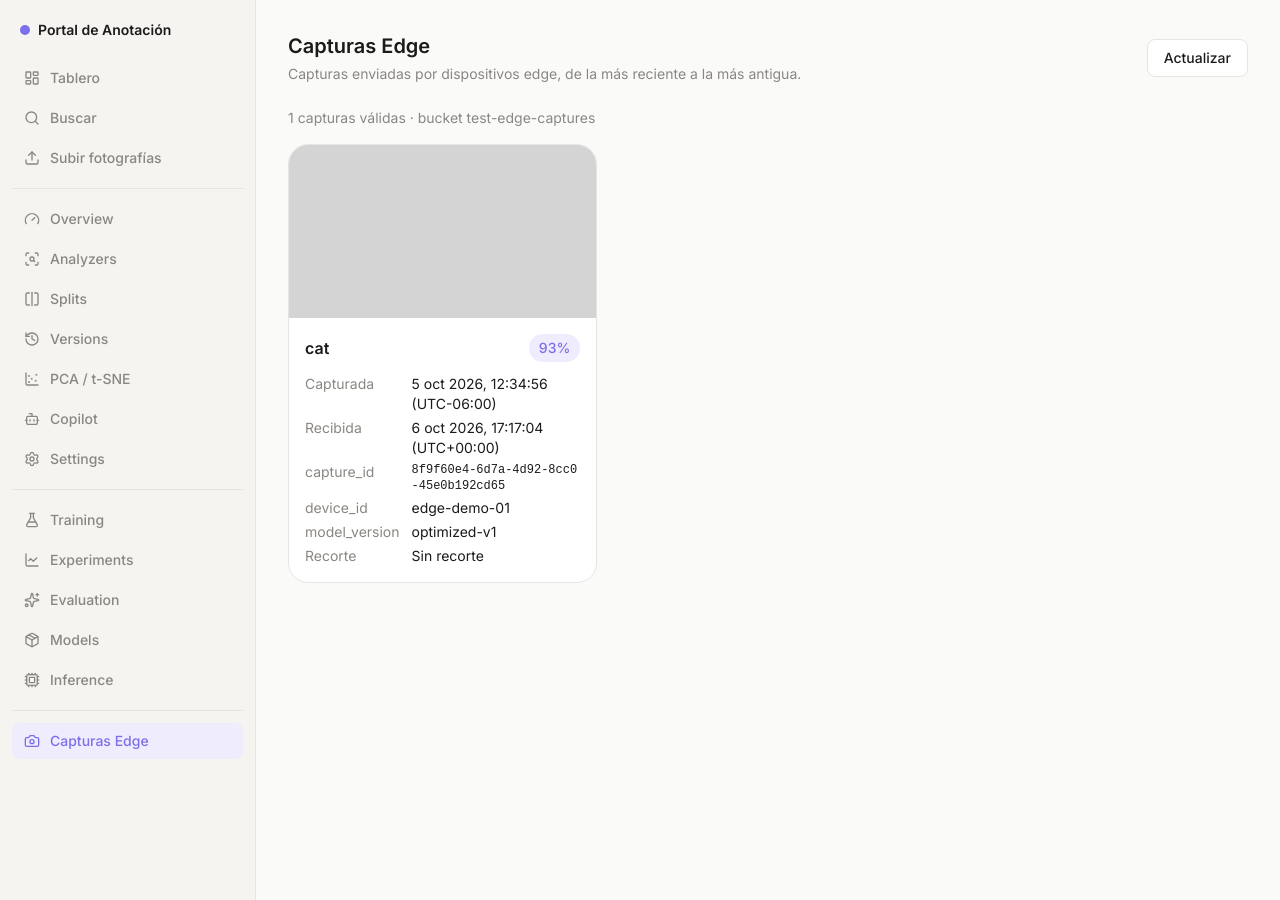
Test: P4-08 Capturas Edge › Actualizar consulta de nuevo y agrega la captura recién recibida
Expected: the text "8f9f60e4-6d7a-4d92-8cc0-45e0b192cd65" is shown, [412,462,580,494]
Click the button "Actualizar" at x=1197, y=58, box [1147,39,1248,77]
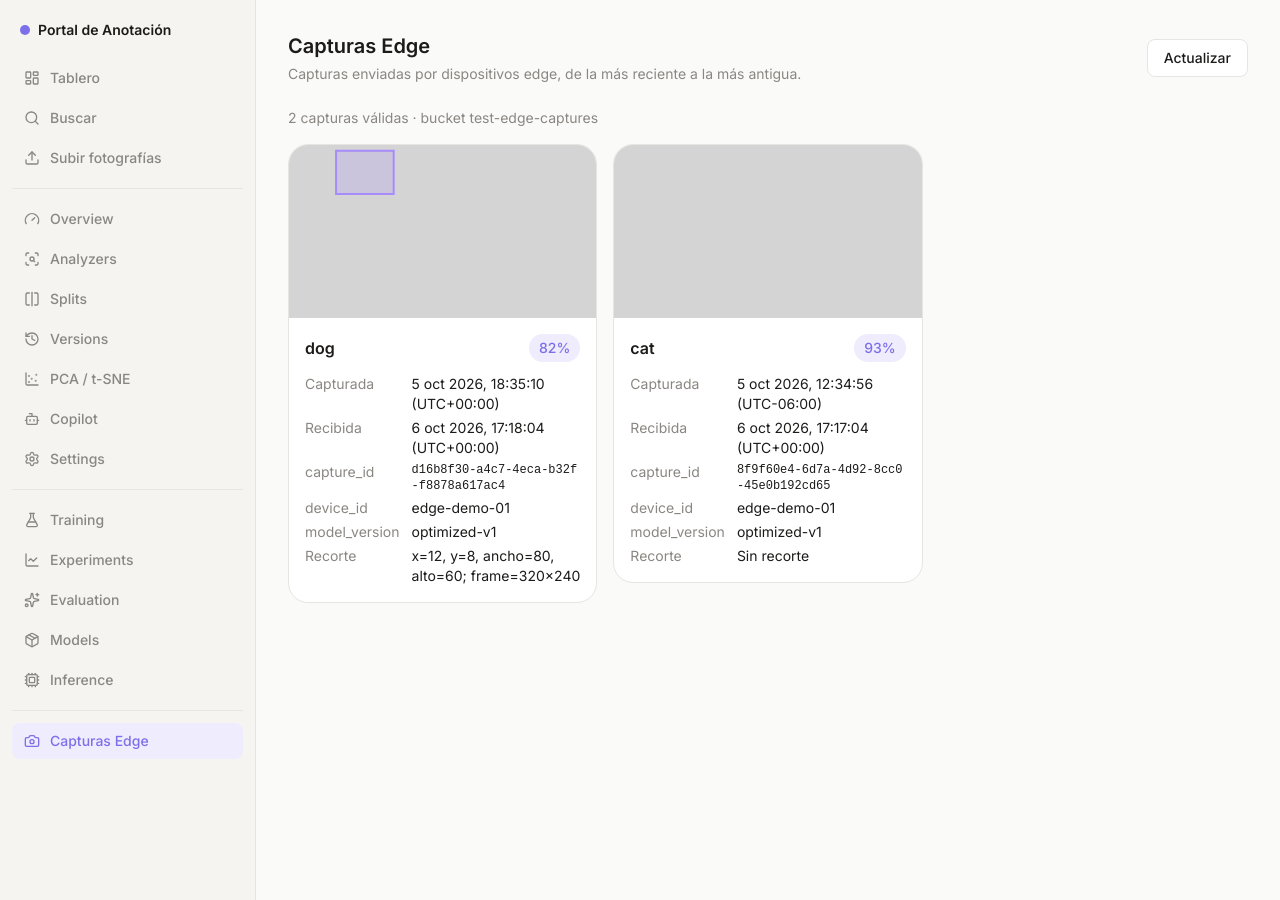
Now the text "d16b8f30-a4c7-4eca-b32f-f8878a617ac4" is shown, box [412,462,580,494]
Now the number of list items is 2, box [288,144,597,603]; [613,144,923,603]
